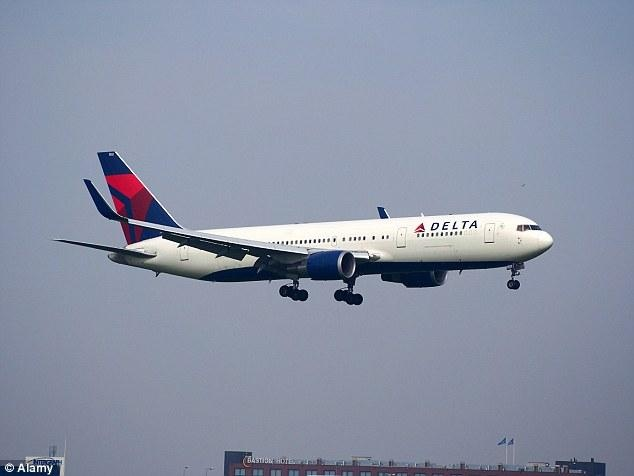airplane: (46, 147, 561, 307)
